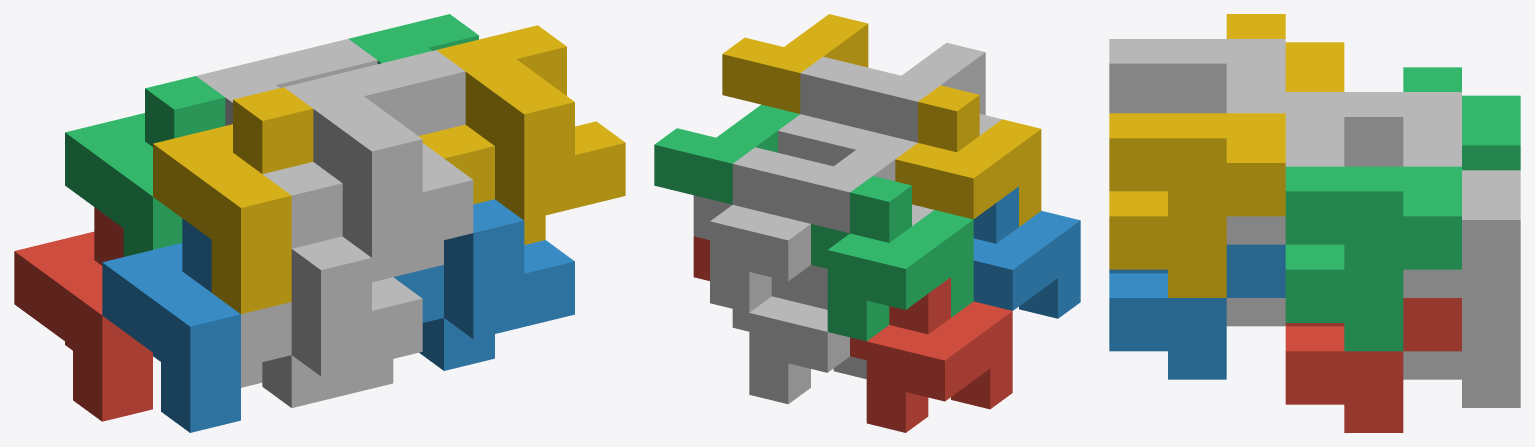
Rendered from tiling.obj.
The picture shows the model from 3 angles, left to right: view 1: azimuth 30°, elevation 25°; view 2: azimuth 150°, elevation 25°; view 3: azimuth 270°, elevation 25°; orthographic projection. The views are drawn at different scales.
Parts seen in each view (by area): view 1: copy_2_domain_4, copy_2_domain_8, copy_1_domain_4, copy_2_domain_2, copy_1_domain_2, copy_2_domain_6, copy_1_domain_1, copy_1_domain_3, copy_1_domain_8, copy_2_domain_3, copy_2_domain_7, copy_1_domain_7 (+1 smaller); view 2: copy_1_domain_3, copy_1_domain_1, copy_1_domain_4, copy_1_domain_7, copy_1_domain_2, copy_1_domain_5, copy_2_domain_4, copy_2_domain_8, copy_2_domain_3, copy_2_domain_7, copy_1_domain_8, copy_2_domain_1 (+1 smaller); view 3: copy_2_domain_7, copy_2_domain_8, copy_2_domain_6, copy_2_domain_5, copy_1_domain_7, copy_2_domain_4, copy_2_domain_3, copy_1_domain_5, copy_1_domain_8, copy_1_domain_3, copy_1_domain_4, copy_1_domain_6.
Boxes of the visible parts, x1,y1,x2,y2 form: copy_2_domain_4: (262,62,473,282); copy_2_domain_8: (418,25,625,244); copy_1_domain_4: (153,87,313,314); copy_2_domain_2: (241,236,422,407); copy_1_domain_2: (102,218,240,432); copy_2_domain_6: (393,199,574,370); copy_1_domain_1: (14,207,152,421); copy_1_domain_3: (65,76,225,256); copy_1_domain_8: (386,50,465,276); copy_2_domain_3: (196,51,326,125); copy_2_domain_7: (348,14,478,63); copy_1_domain_7: (298,39,377,76); copy_1_domain_3: (811,176,973,341); copy_1_domain_1: (850,277,1012,432); copy_1_domain_4: (895,85,1041,226); copy_1_domain_7: (693,147,810,312); copy_1_domain_2: (973,186,1080,318); copy_1_domain_5: (732,265,866,404); copy_2_domain_4: (839,42,1001,142); copy_2_domain_8: (722,14,868,113); copy_2_domain_3: (771,133,933,233); copy_2_domain_7: (654,104,799,204); copy_1_domain_8: (778,56,878,166); copy_2_domain_1: (811,265,827,309); copy_2_domain_7: (1285,166,1461,351); copy_2_domain_8: (1109,113,1285,297); copy_2_domain_6: (1109,244,1285,379); copy_2_domain_5: (1285,298,1461,432); copy_1_domain_7: (1403,141,1520,326); copy_2_domain_4: (1109,39,1285,113); copy_2_domain_3: (1285,92,1461,166); copy_1_domain_5: (1403,326,1520,407); copy_1_domain_8: (1226,88,1344,244); copy_1_domain_3: (1403,67,1520,170); copy_1_domain_4: (1226,14,1344,91); copy_1_domain_6: (1226,298,1285,326).
Size of the model in its own units: 8 by 6 by 7.
